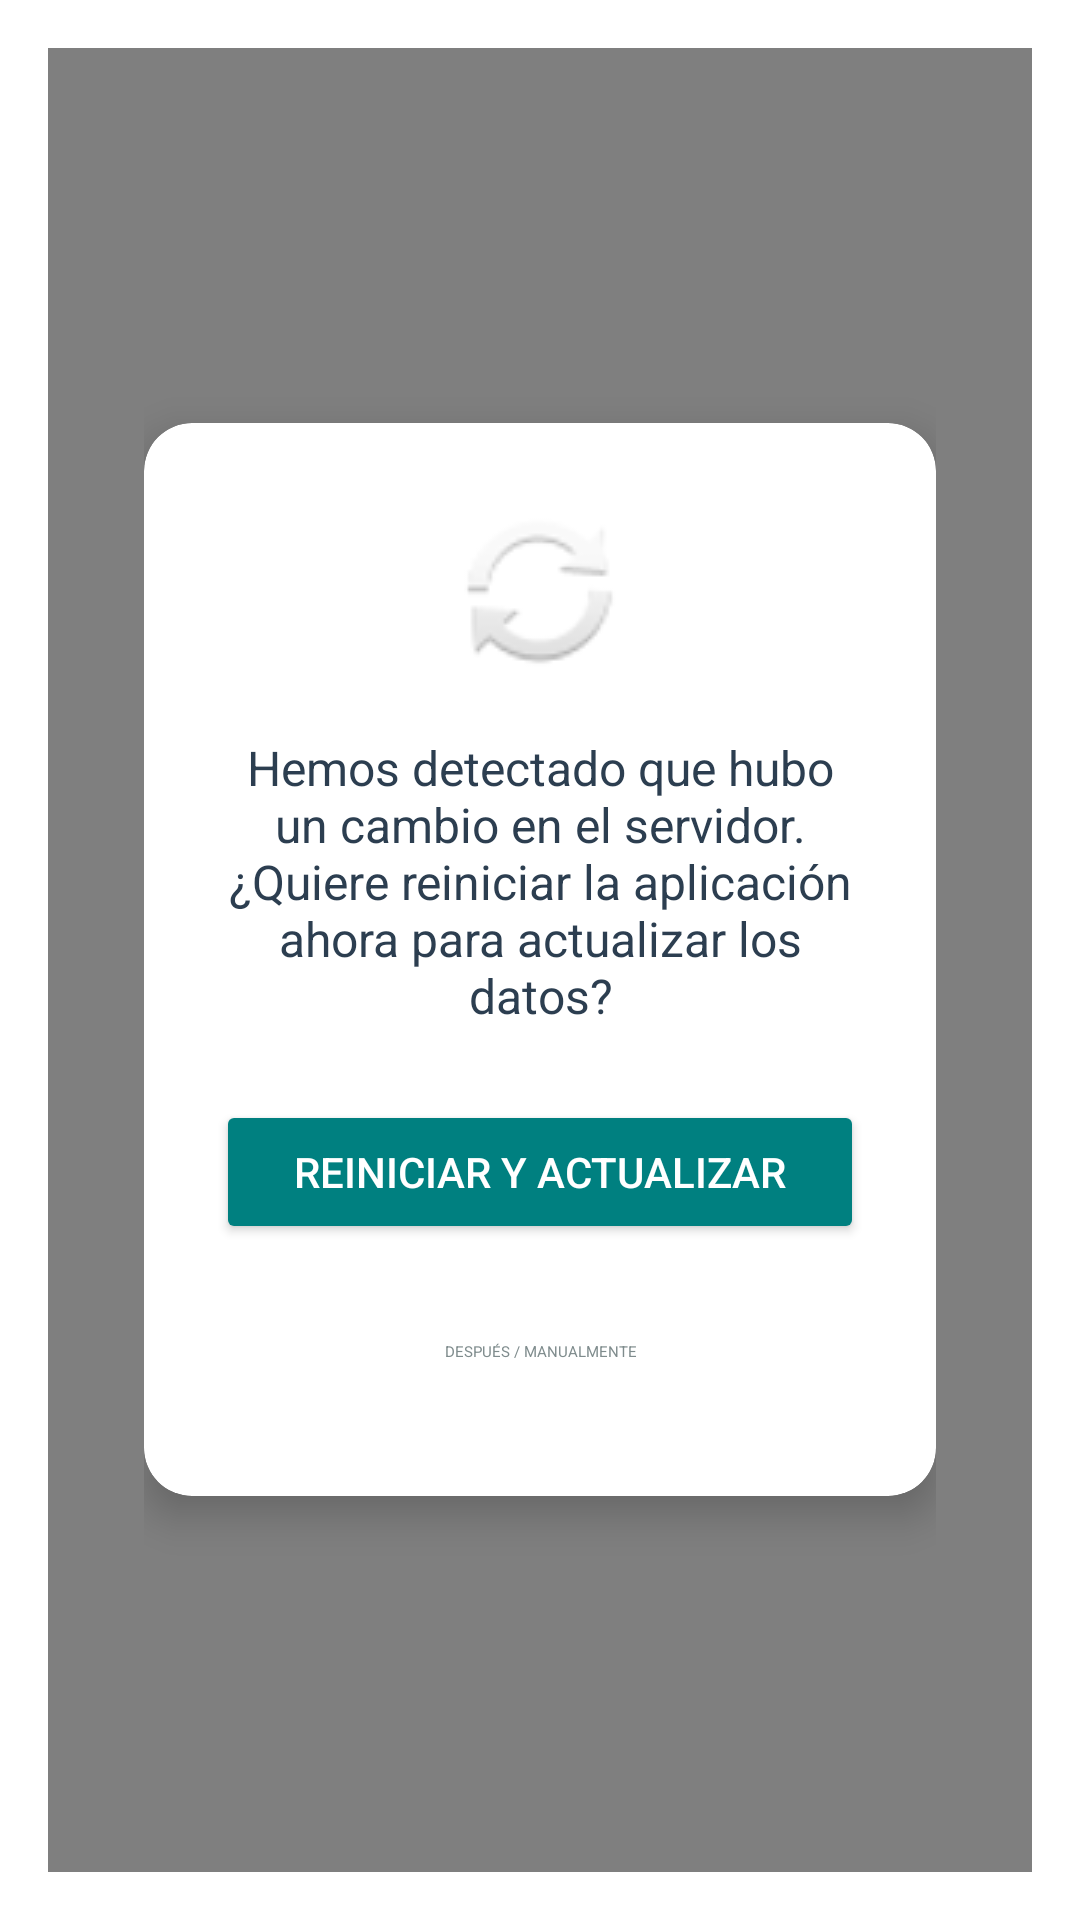

Icon click points for this 1080 × 1920 phone screenshot, format [x,y]:
popup sync: [528,587]
